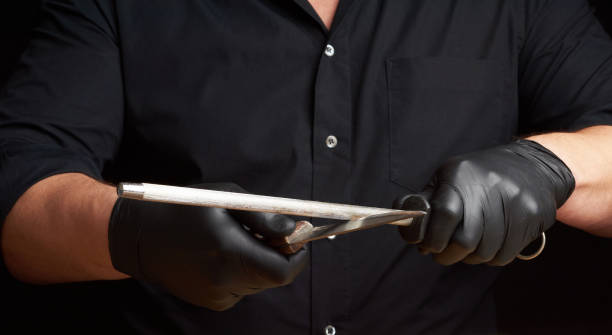knife: (265, 210, 430, 255)
